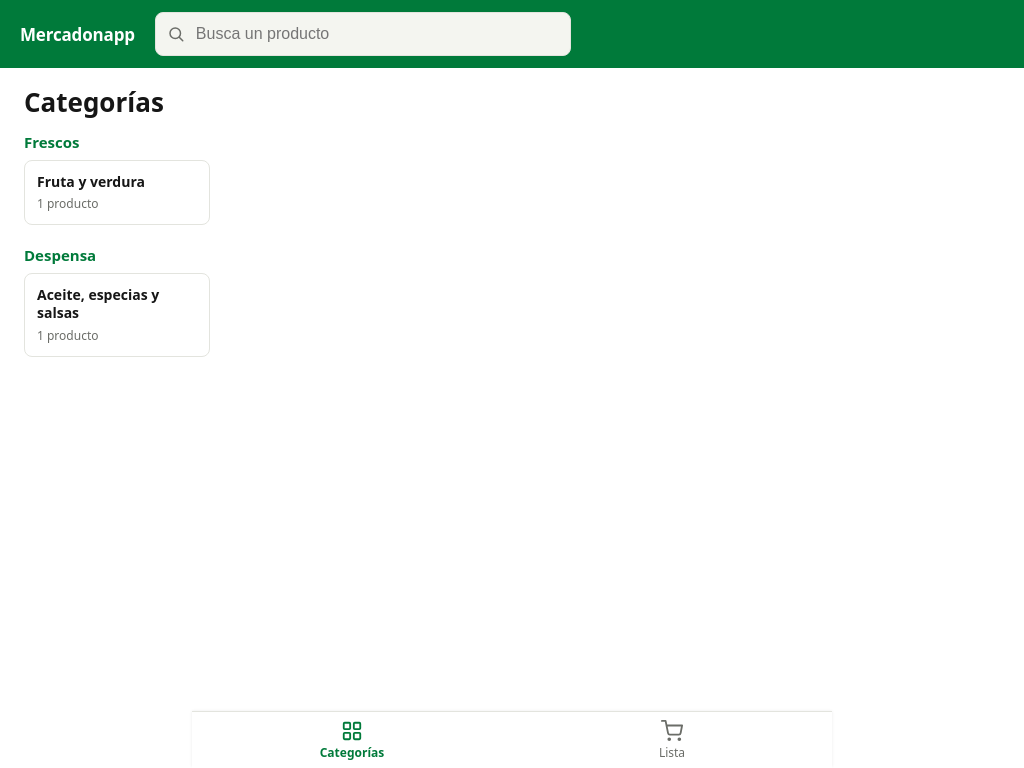
Scenario: App — a product › goes back to the results you came from
Expected: the button "Fruta y verdura 1 producto" is shown, [24,160,210,225]
In the search field named "Buscar producto": {"x": 363, "y": 34} [155,12,571,56], type "platano"
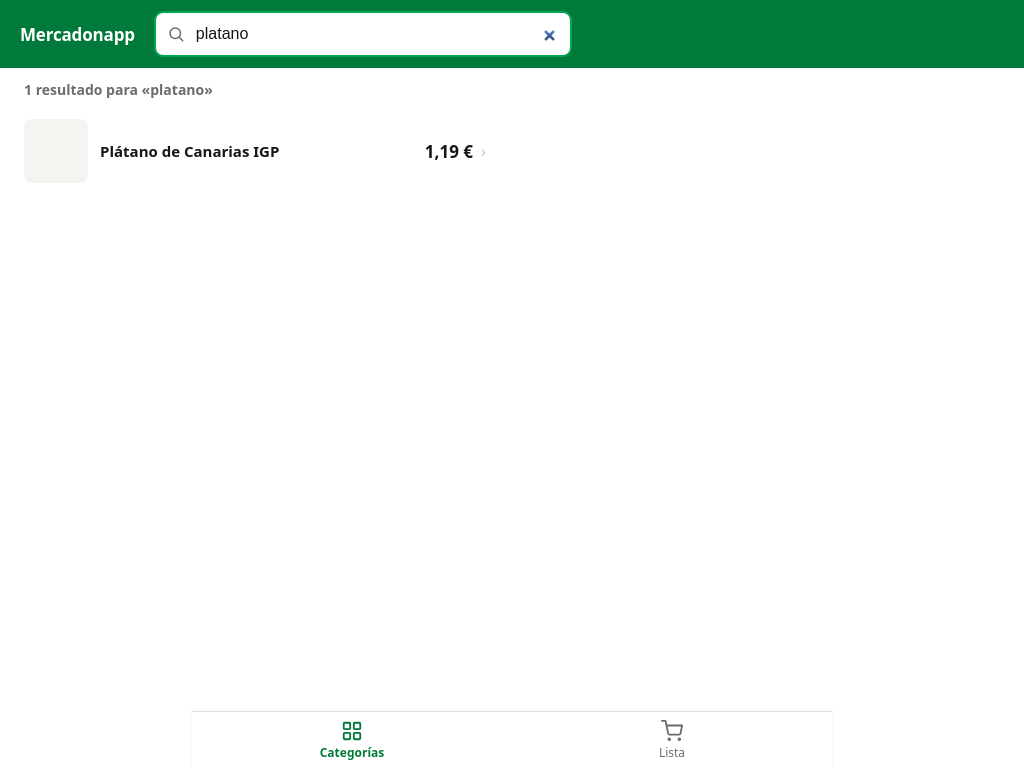
Click the button "Plátano de Canarias IGP 1,19 € ›": {"x": 255, "y": 151} [16,107,494,195]
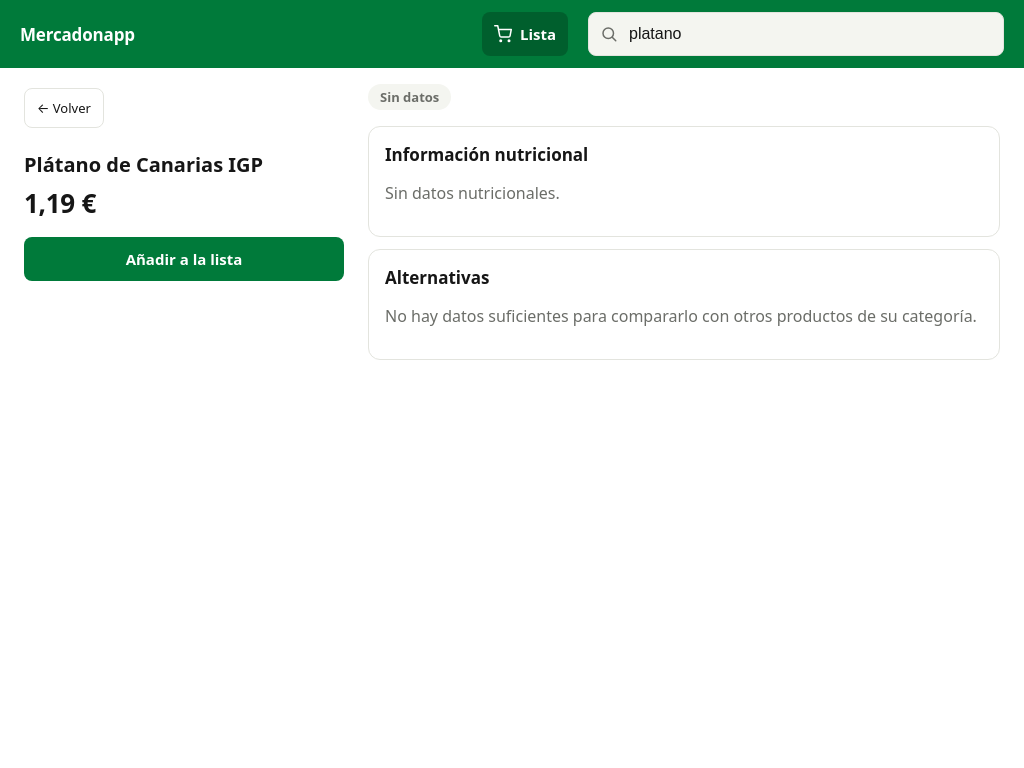
Click the button "← Volver": {"x": 64, "y": 108} [24,88,104,128]
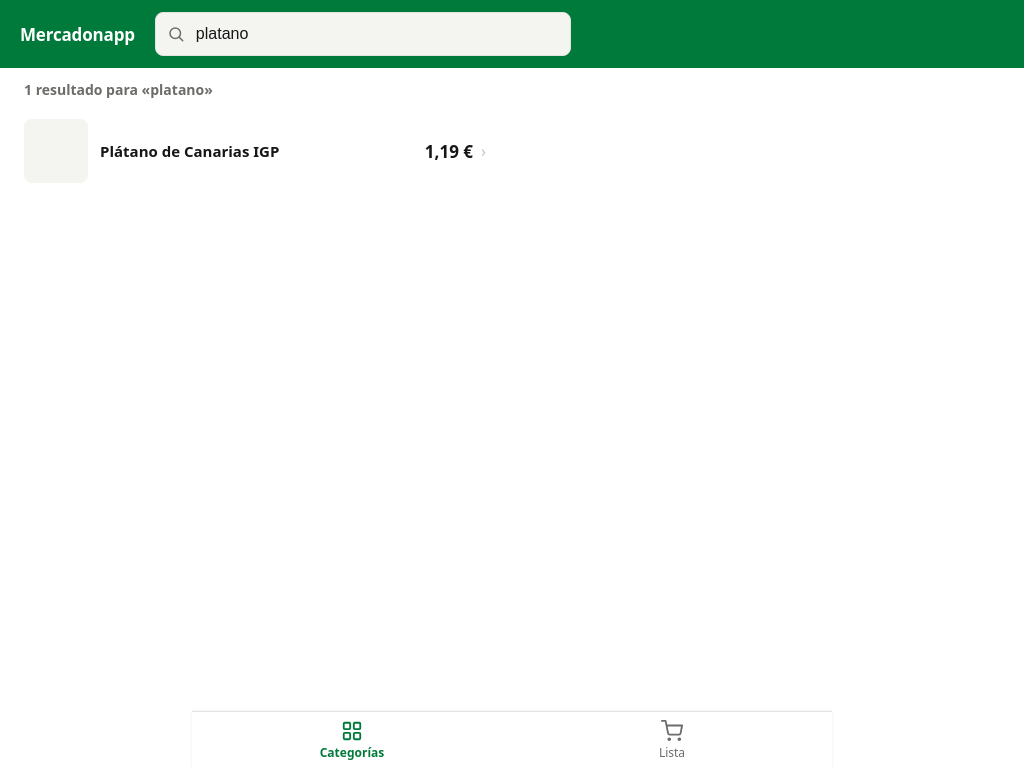
Now the heading "1 resultado para «platano»" is shown, box [24,80,213,99]
